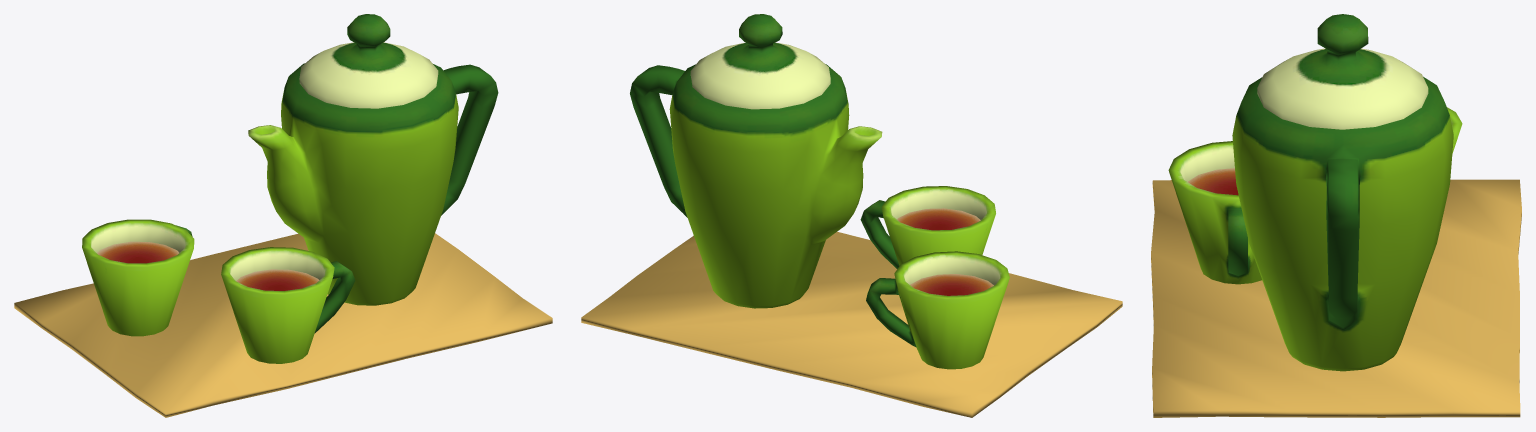
Rendered from lounge-tea.glb.
3 views of the same model, side by side, from view 1: azimuth 30°, elevation 25°; view 2: azimuth 150°, elevation 25°; view 3: azimuth 270°, elevation 25° (orthographic). The views are drawn at different scales.
Parts seen in each view (by area): view 1: cupBase01_low__mReBody-mesh, mat_low__mReFabric-mesh; view 2: cupBase01_low__mReBody-mesh, mat_low__mReFabric-mesh; view 3: cupBase01_low__mReBody-mesh, mat_low__mReFabric-mesh.
Part boxes in pixels (bbox=[...]): cupBase01_low__mReBody-mesh: bbox=[82, 14, 498, 363]; mat_low__mReFabric-mesh: bbox=[14, 233, 552, 417]; cupBase01_low__mReBody-mesh: bbox=[630, 14, 1009, 369]; mat_low__mReFabric-mesh: bbox=[581, 231, 1122, 417]; cupBase01_low__mReBody-mesh: bbox=[1168, 14, 1462, 371]; mat_low__mReFabric-mesh: bbox=[1151, 179, 1521, 417].
Size of the model in its own units: 7.8 by 5.06 by 5.04.
2 materials, 2 textured.
